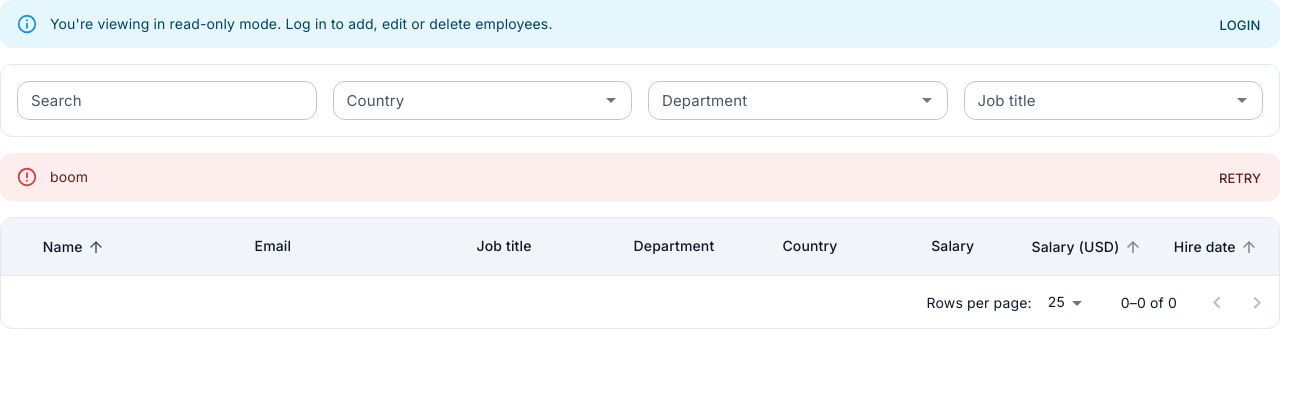
Test: EmployeeTable › shows an error message with a Retry button, and Retry re-fetches
What coordinates should you click on to do the following:
click the button "Retry"
I would click on:
 (1240, 178)
Its box is [1208,163,1272,193].
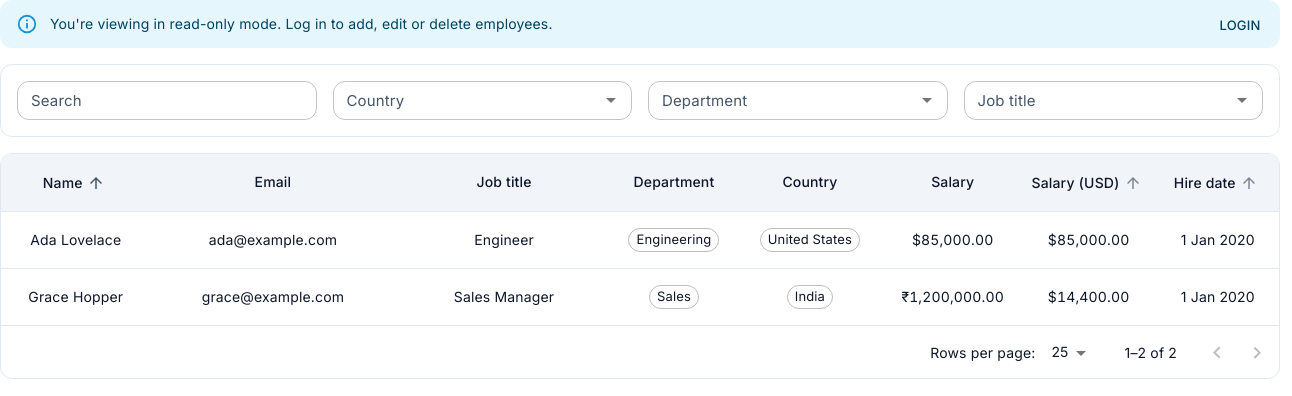
Now the text "Ada Lovelace" is shown, box [1,212,150,269]
